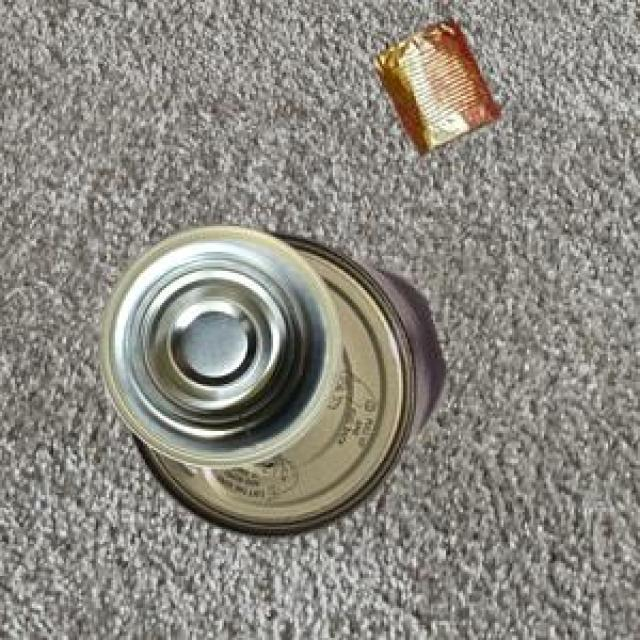Can: (125, 229, 445, 534), (97, 223, 338, 464), (372, 16, 496, 150)
